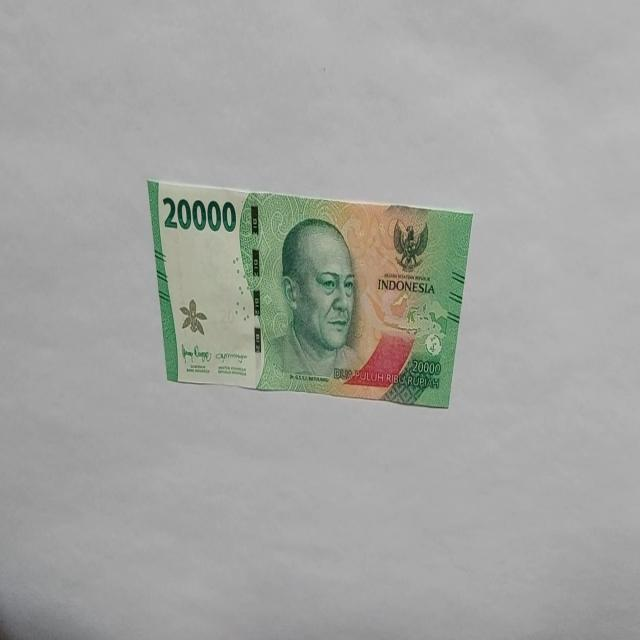dua puluh ribu rupiah: (146, 176, 474, 408)
